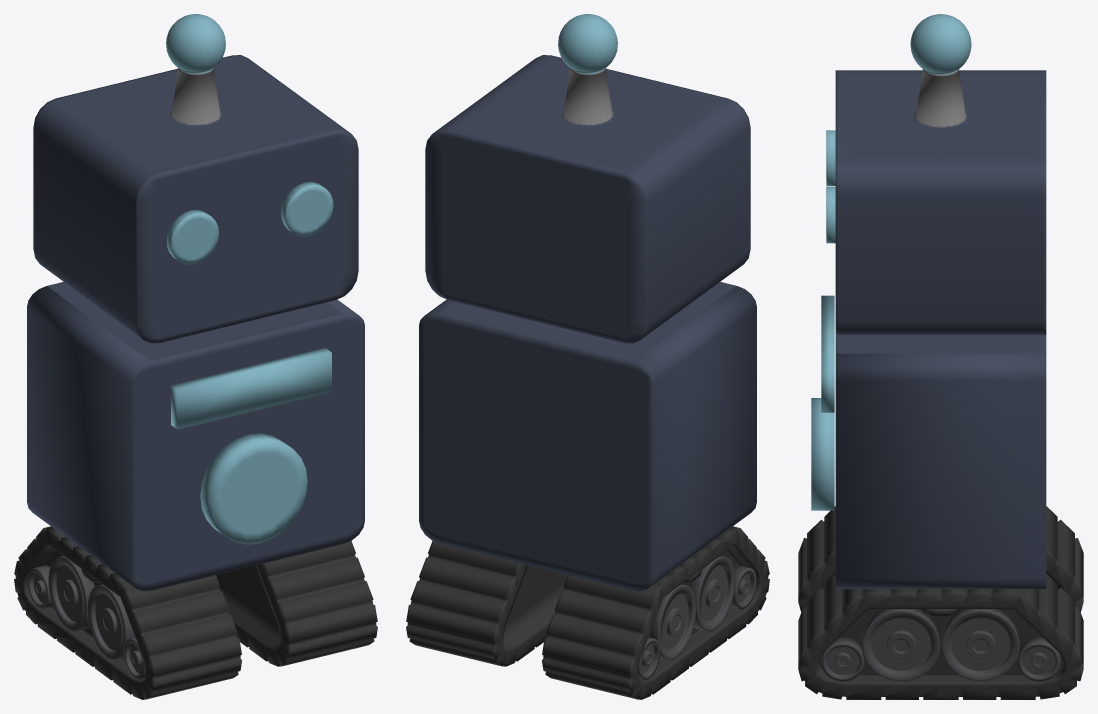
The model's file is RobotV1.fbx.
3 views of the same model, side by side, from view 1: azimuth 30°, elevation 25°; view 2: azimuth 150°, elevation 25°; view 3: azimuth 270°, elevation 25° (orthographic).
Parts seen in each view (by area): view 1: Orugas; view 2: Orugas; view 3: Orugas.
Boxes of the visible parts, x1,y1,x2,y2 form: Orugas: [14, 14, 377, 699]; Orugas: [406, 14, 769, 699]; Orugas: [798, 14, 1083, 699].
Size of the model in its own units: 2.62 by 2.71 by 6.57.
1 material, 1 textured.
